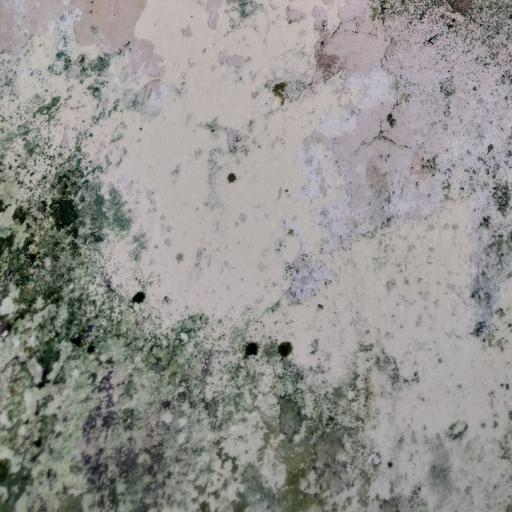algae: (0, 60, 433, 512)
